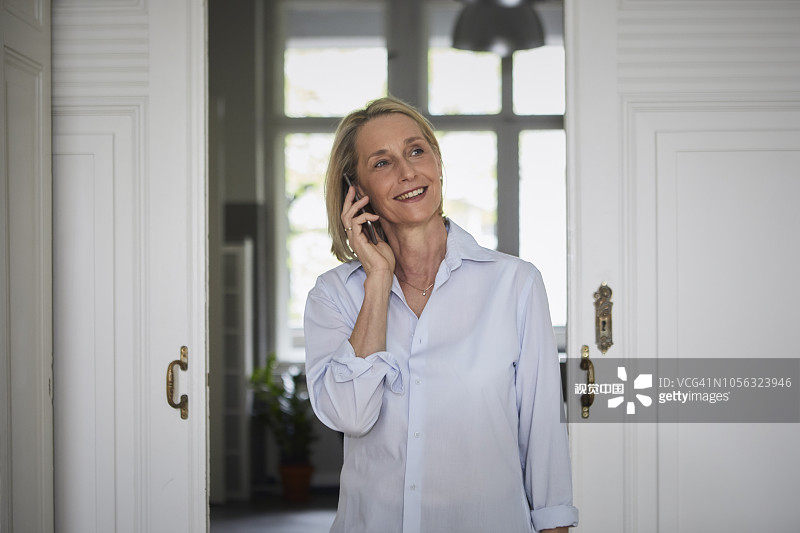calling: (318, 165, 419, 293)
